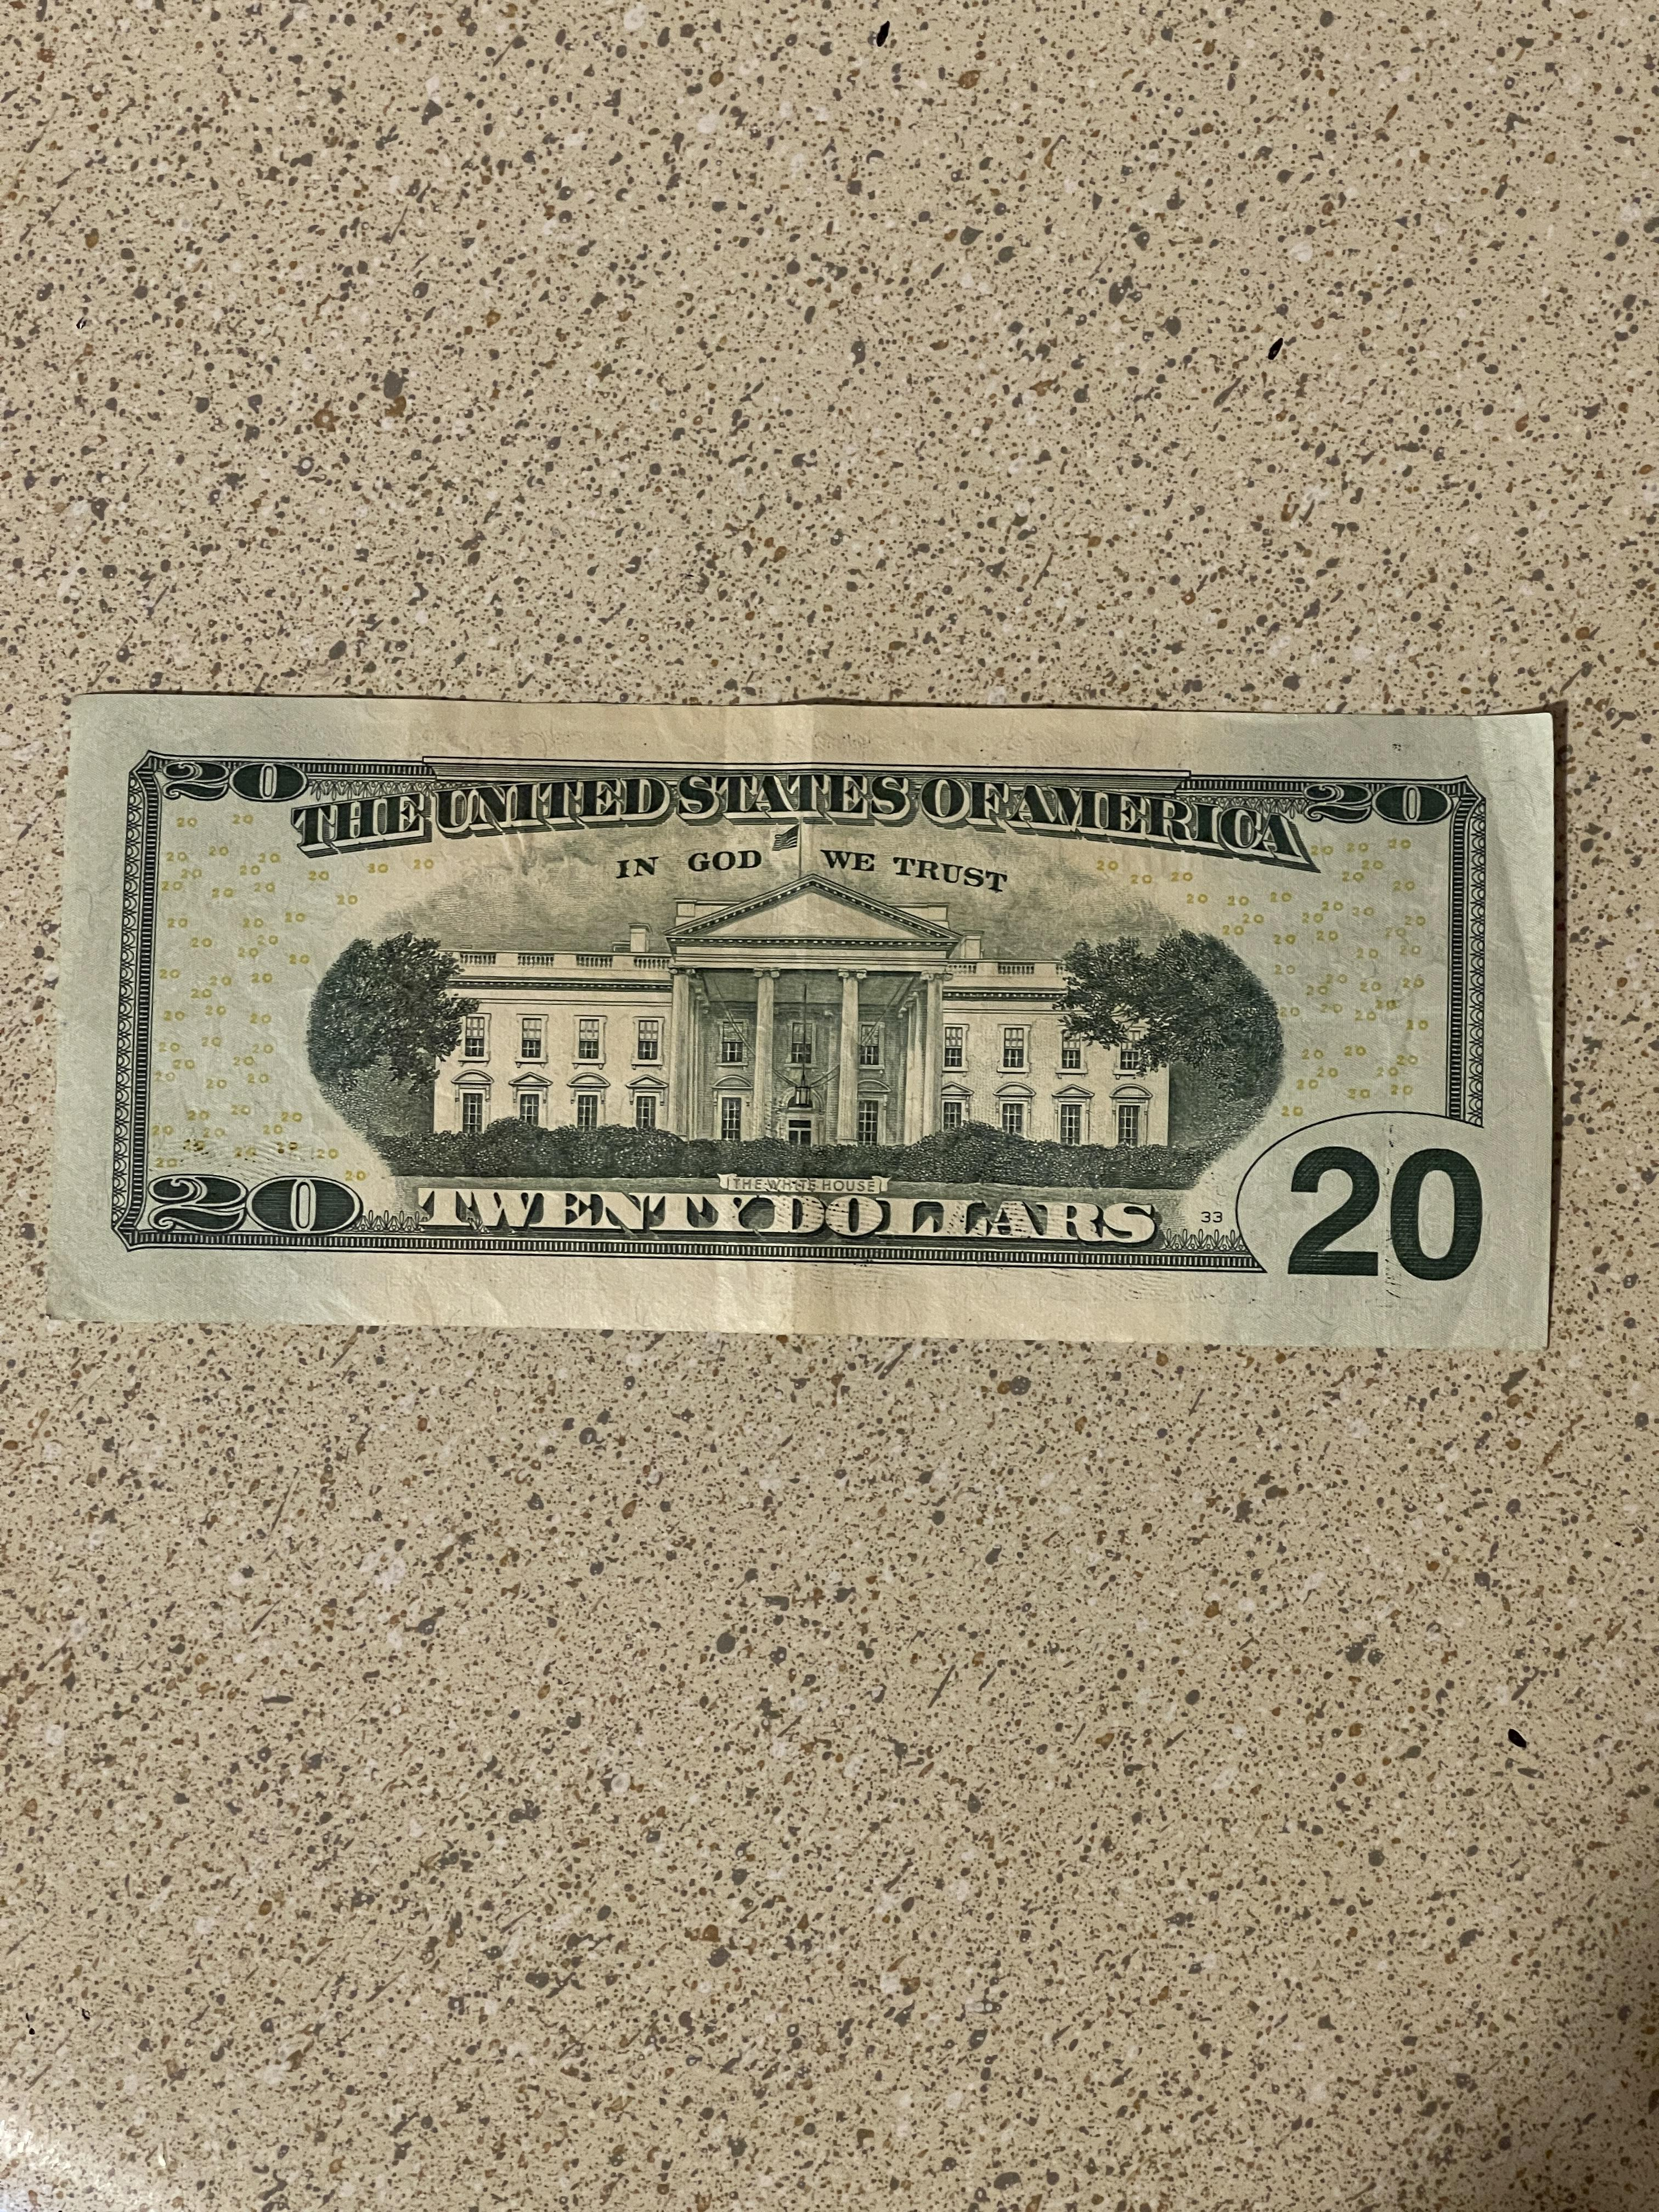TwentyBill: (45, 691, 1561, 1355)
